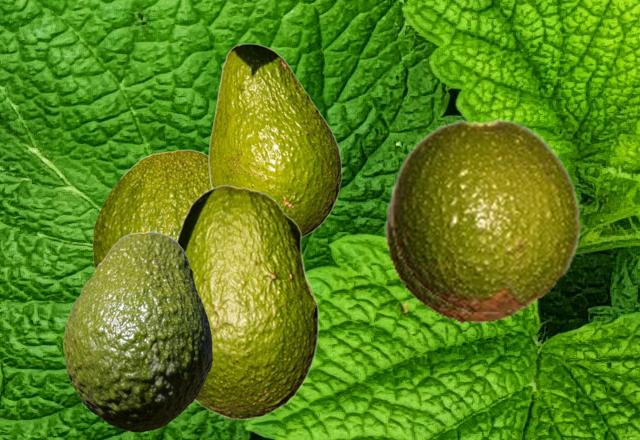avocado: (389, 118, 582, 314), (176, 184, 318, 419), (63, 231, 211, 431), (208, 43, 341, 237), (384, 179, 540, 323), (92, 149, 209, 268)
